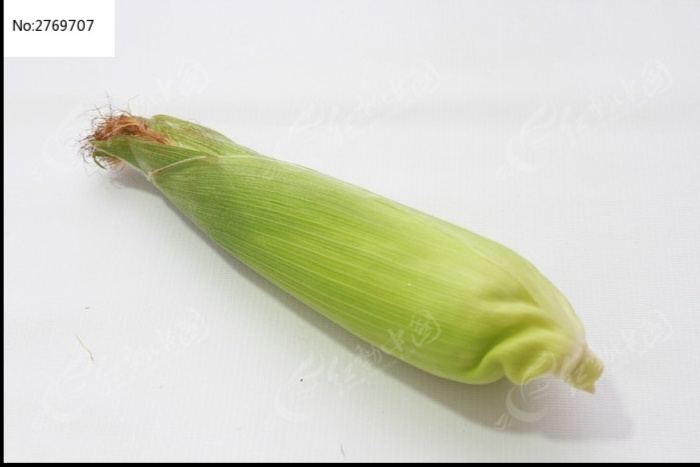corn_plant: (75, 92, 615, 403)
